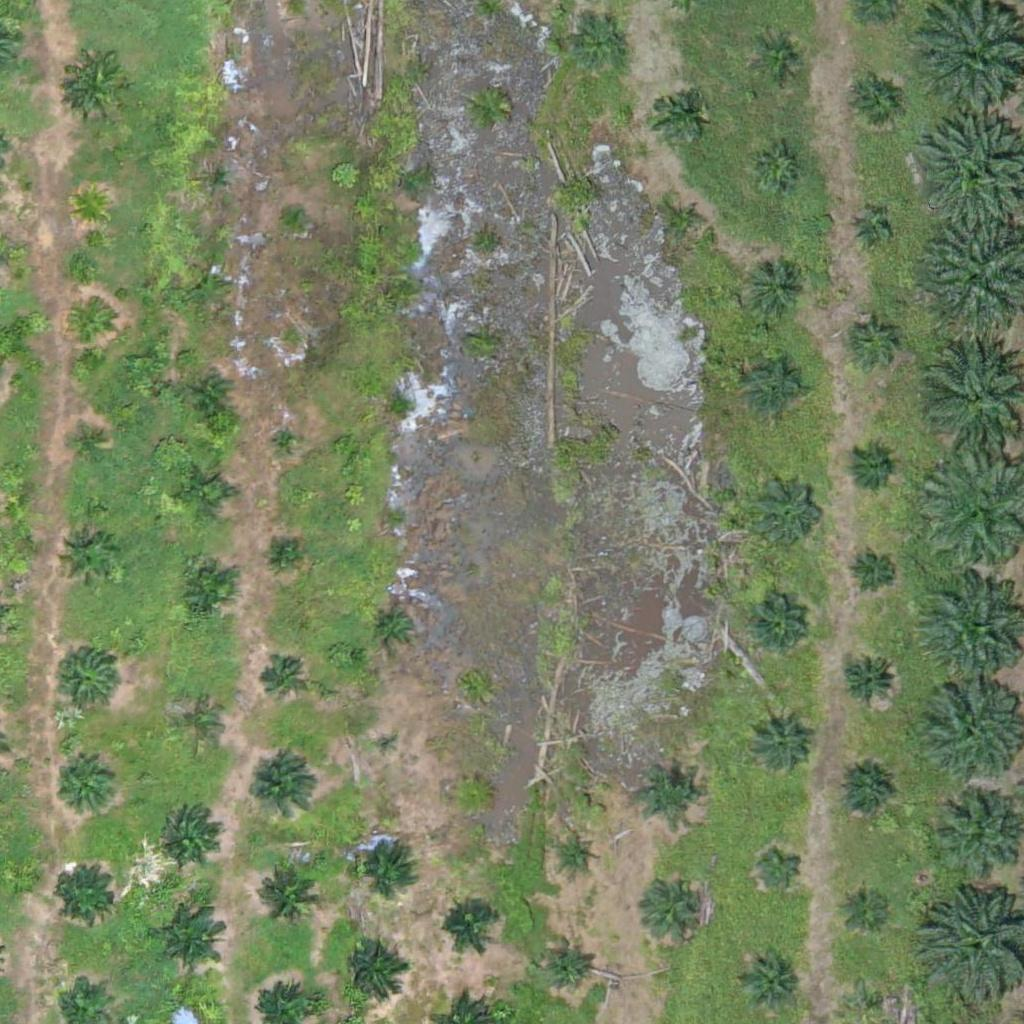Kelapa_Sawit: (923, 676, 1023, 777), (933, 793, 1021, 881), (151, 902, 226, 978), (244, 755, 319, 831), (252, 857, 327, 933), (751, 472, 826, 547), (65, 56, 128, 119), (649, 876, 712, 939), (638, 760, 701, 823), (353, 832, 416, 895), (747, 599, 810, 662), (736, 948, 799, 1011), (837, 649, 900, 712), (438, 894, 500, 957), (56, 864, 118, 927), (342, 940, 405, 1002), (159, 806, 221, 869), (56, 528, 118, 591), (176, 561, 238, 624), (54, 648, 116, 711), (58, 759, 120, 822), (747, 259, 809, 322), (746, 356, 808, 419), (748, 710, 810, 773), (834, 761, 896, 824), (175, 462, 237, 525), (849, 316, 899, 367), (840, 878, 890, 929), (755, 840, 805, 891), (845, 440, 895, 491), (257, 654, 307, 705), (575, 24, 625, 74), (651, 88, 701, 138), (753, 144, 803, 194), (754, 35, 804, 85), (541, 938, 591, 988), (172, 699, 222, 749), (849, 548, 899, 598), (852, 79, 902, 129), (371, 602, 421, 652), (558, 836, 596, 874), (668, 202, 706, 240), (71, 187, 109, 225), (851, 211, 889, 249), (455, 776, 493, 814), (269, 424, 307, 462), (193, 376, 231, 414), (73, 309, 111, 347), (72, 429, 110, 467), (189, 267, 227, 305), (198, 161, 235, 199), (271, 540, 296, 566), (283, 201, 308, 226), (375, 730, 400, 755)
